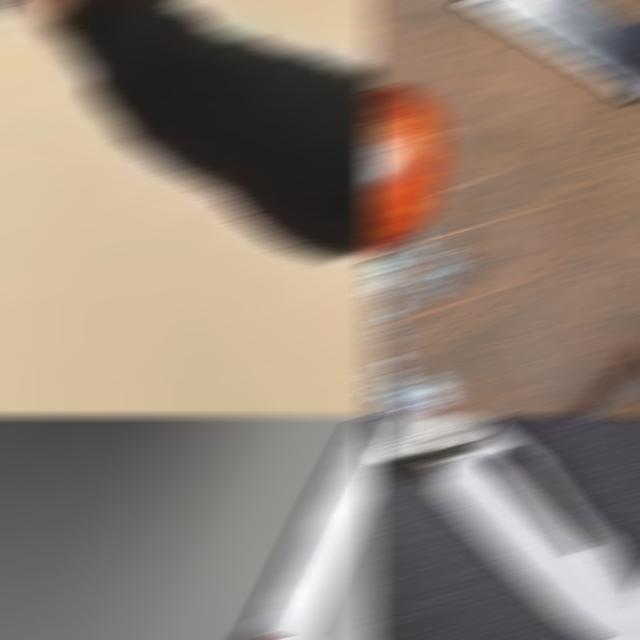Knife: (374, 418, 640, 638), (238, 418, 377, 638), (0, 2, 42, 198)
Knife_Handle: (0, 2, 99, 214)
